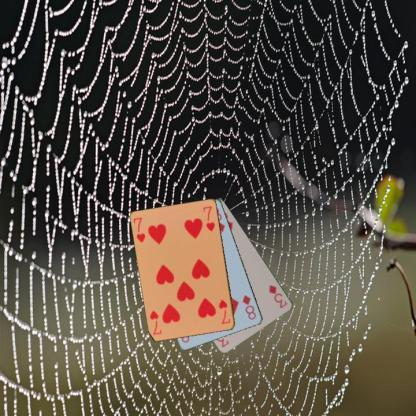3d: (266, 282, 288, 310)
7h: (216, 296, 232, 326), (131, 215, 147, 244)
8d: (240, 292, 258, 321)
